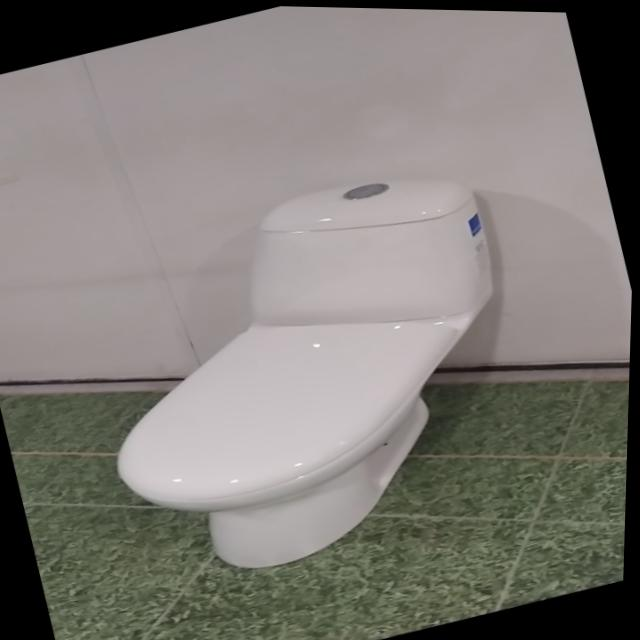toilet: (57, 144, 561, 604)
